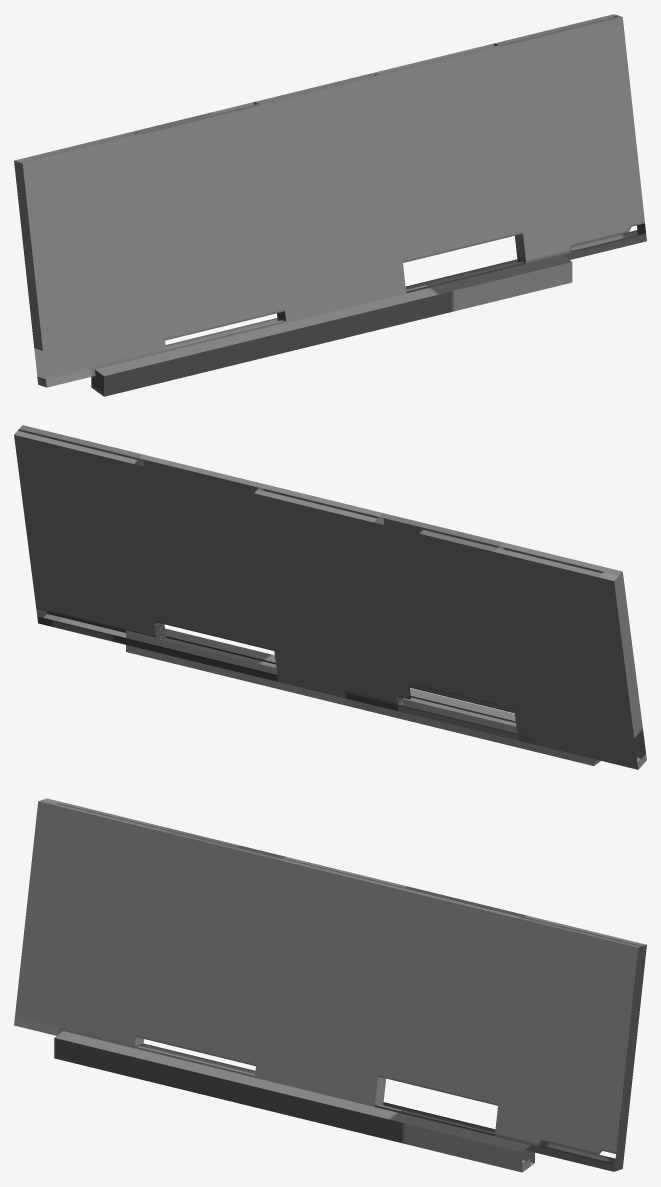
3 views of the same model, one above another, from view 1: azimuth 30°, elevation 25°; view 2: azimuth 150°, elevation 25°; view 3: azimuth 330°, elevation 25° (orthographic).
Size of the model in its own units: 1.25 by 0.4402 by 0.1493.
